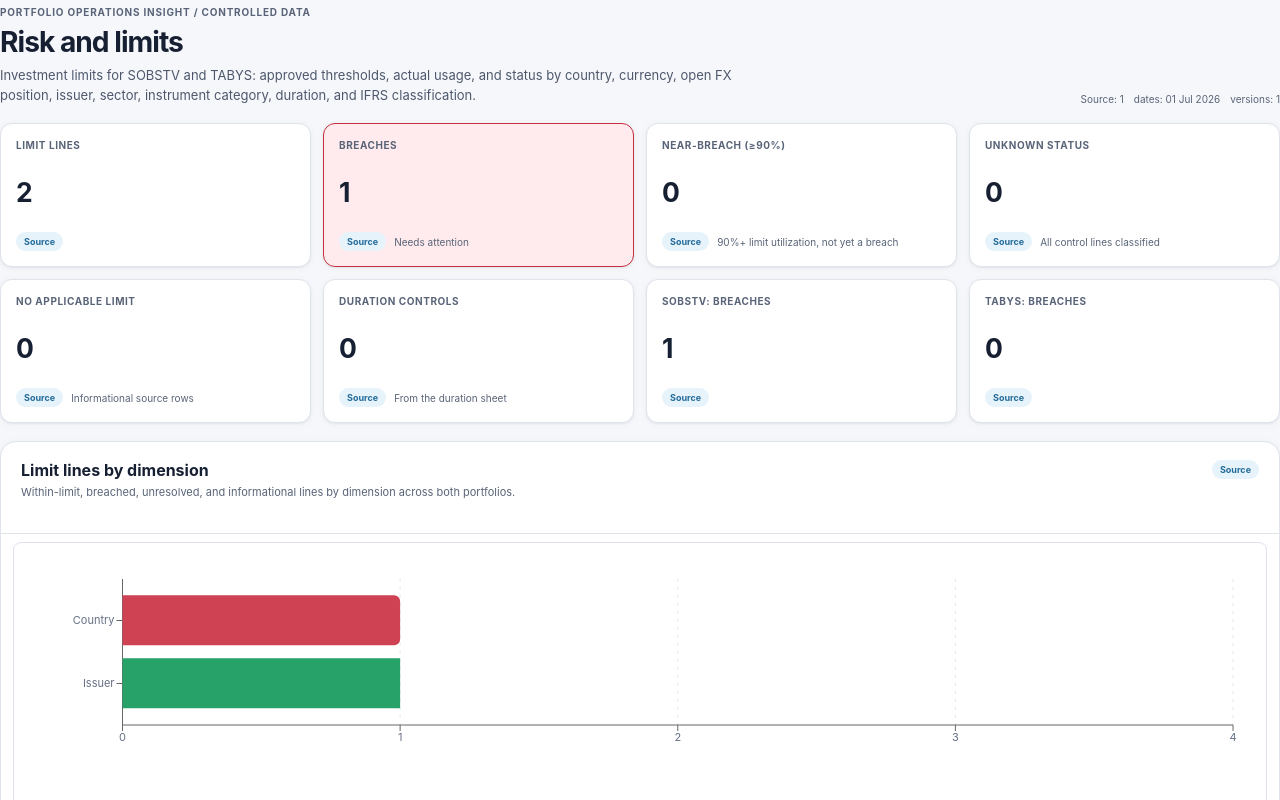
multi-source domain pages › renders published risk limits and flags breaches for both portfolios
Click the button with aria-label "Limit lines: source" at (40, 242), box [16, 232, 63, 251]
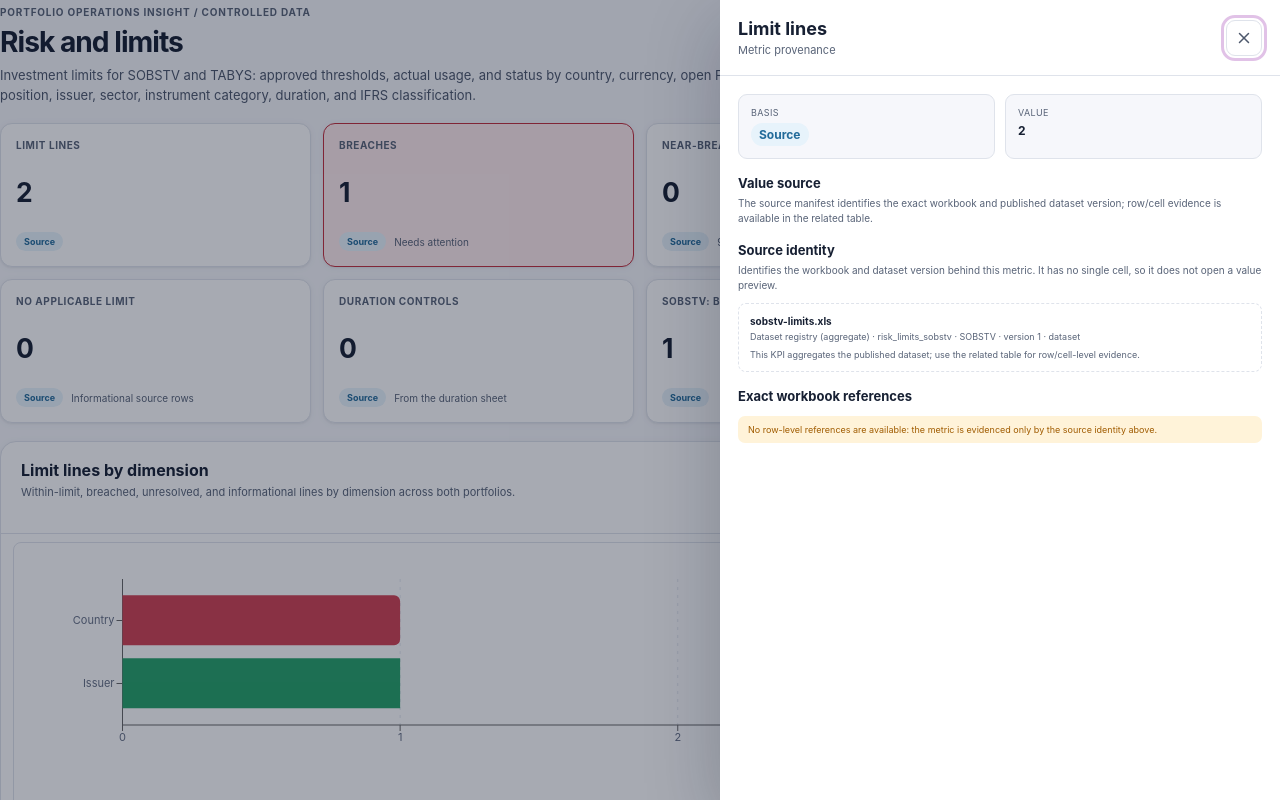
Result: the text "Metric provenance" is shown at [738, 43, 836, 57]
